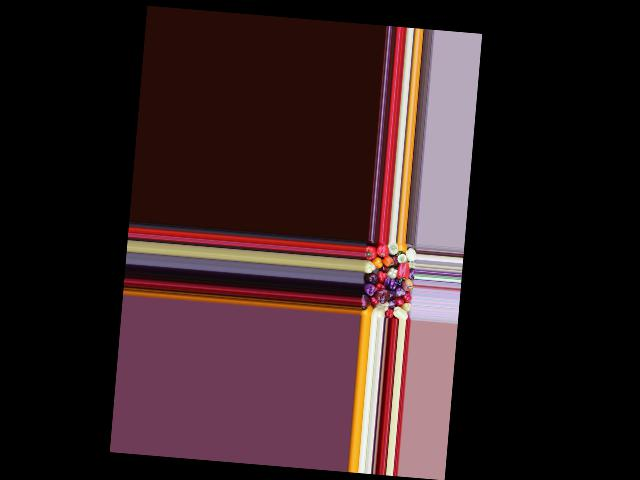bell_pepper: (387, 242, 397, 256)
